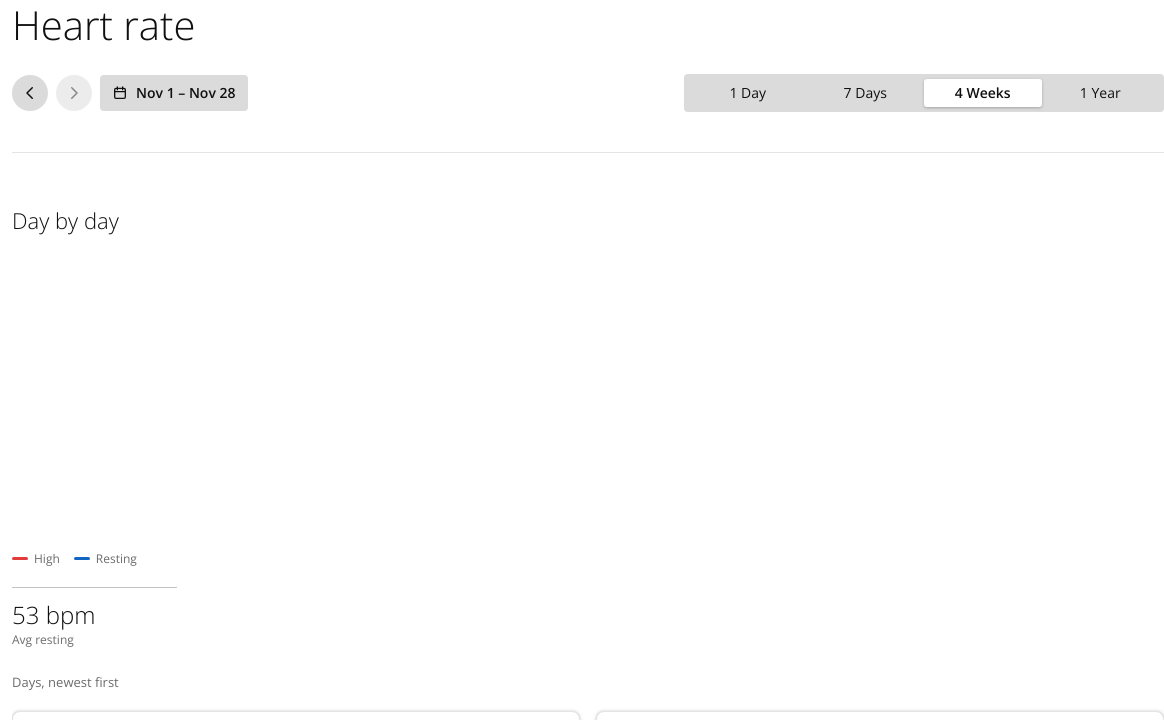
Test case: MetricPage on a wide screen › has the title, a toolbar with the arrows, the dates and the range labels in words, and the figures in a strip
The width and height of the screenshot is (1164, 720).
Expected: the heading "Heart rate" is shown, 12,0 -> 195,50
Expected: the button named "Next period" is disabled, 56,75 -> 92,111
Click the button "7 Days" at (865, 93), box 806,79 -> 924,107
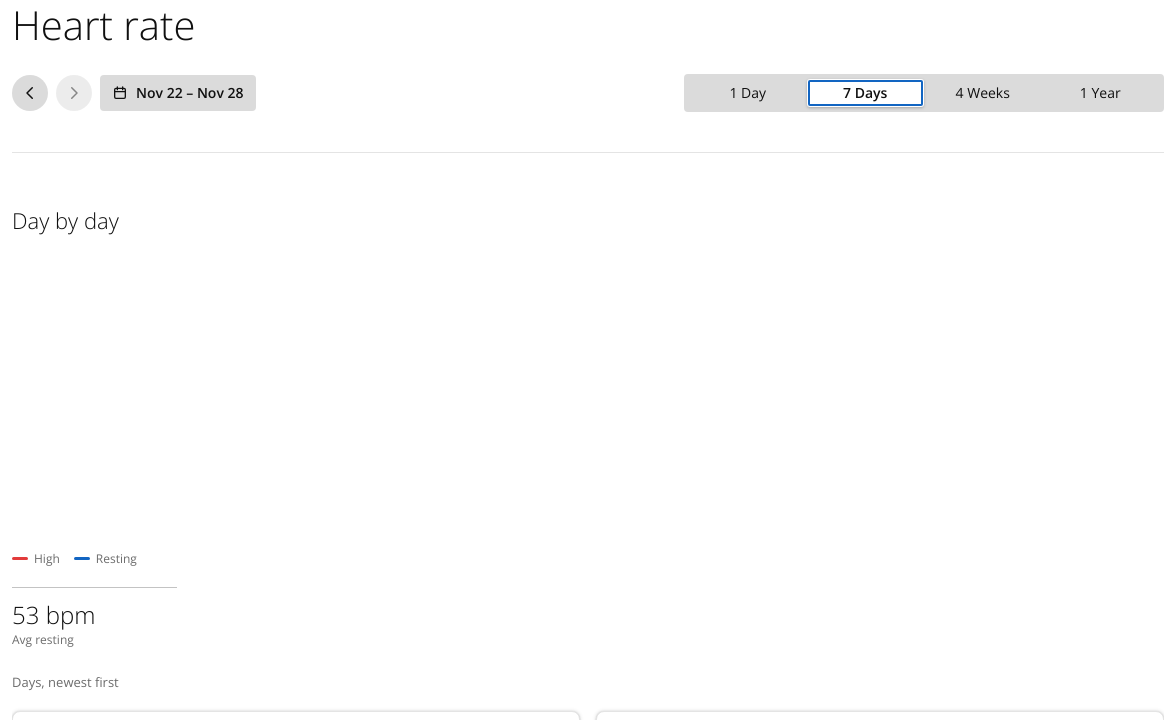
Click the button named "Previous period" at (30, 93), box 12,75 -> 48,111
(page scrolled)
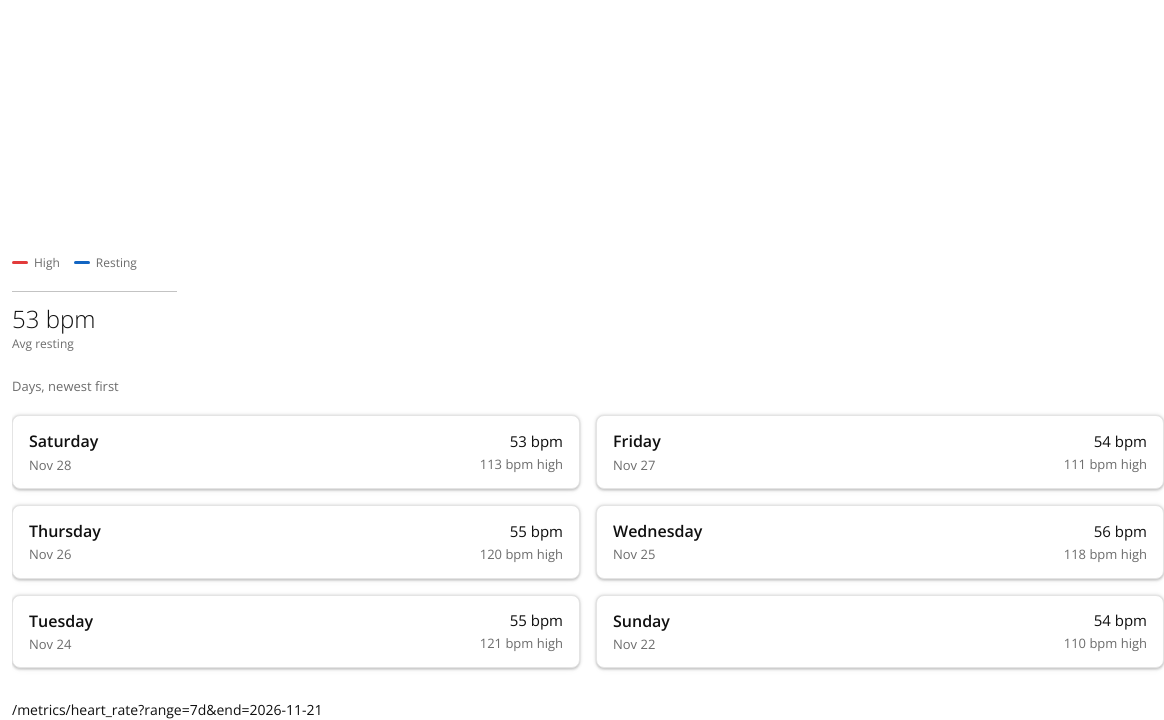
Now the text with test id "where" shows "end=", box 12,700 -> 323,719
